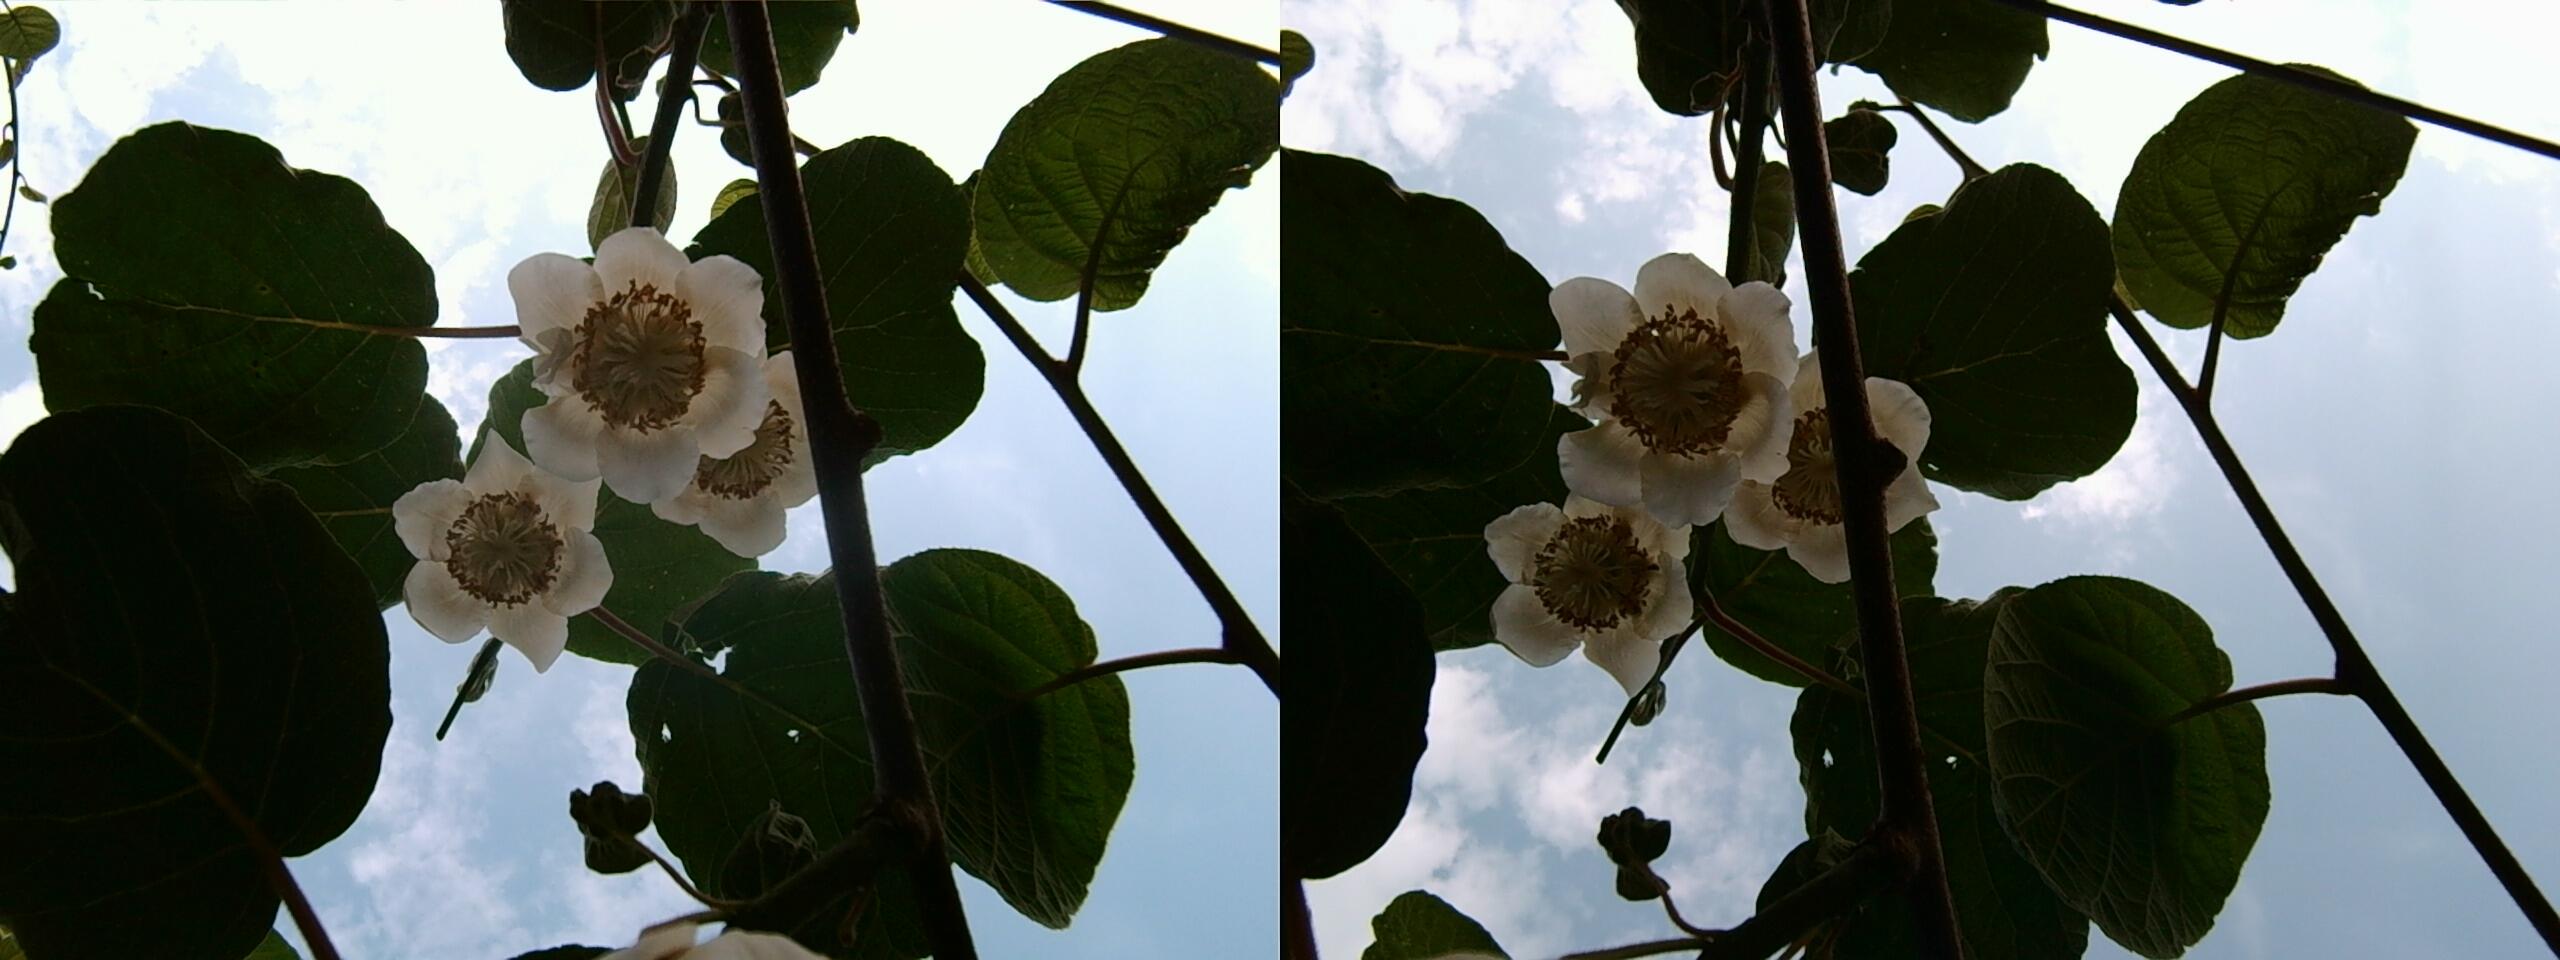flower: (500, 222, 785, 498), (1544, 242, 1806, 526), (382, 420, 622, 678), (1461, 470, 1708, 694), (1711, 379, 1931, 562), (655, 379, 821, 547)
